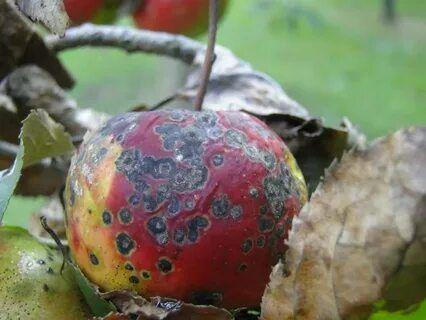Apple: (65, 107, 310, 313)
